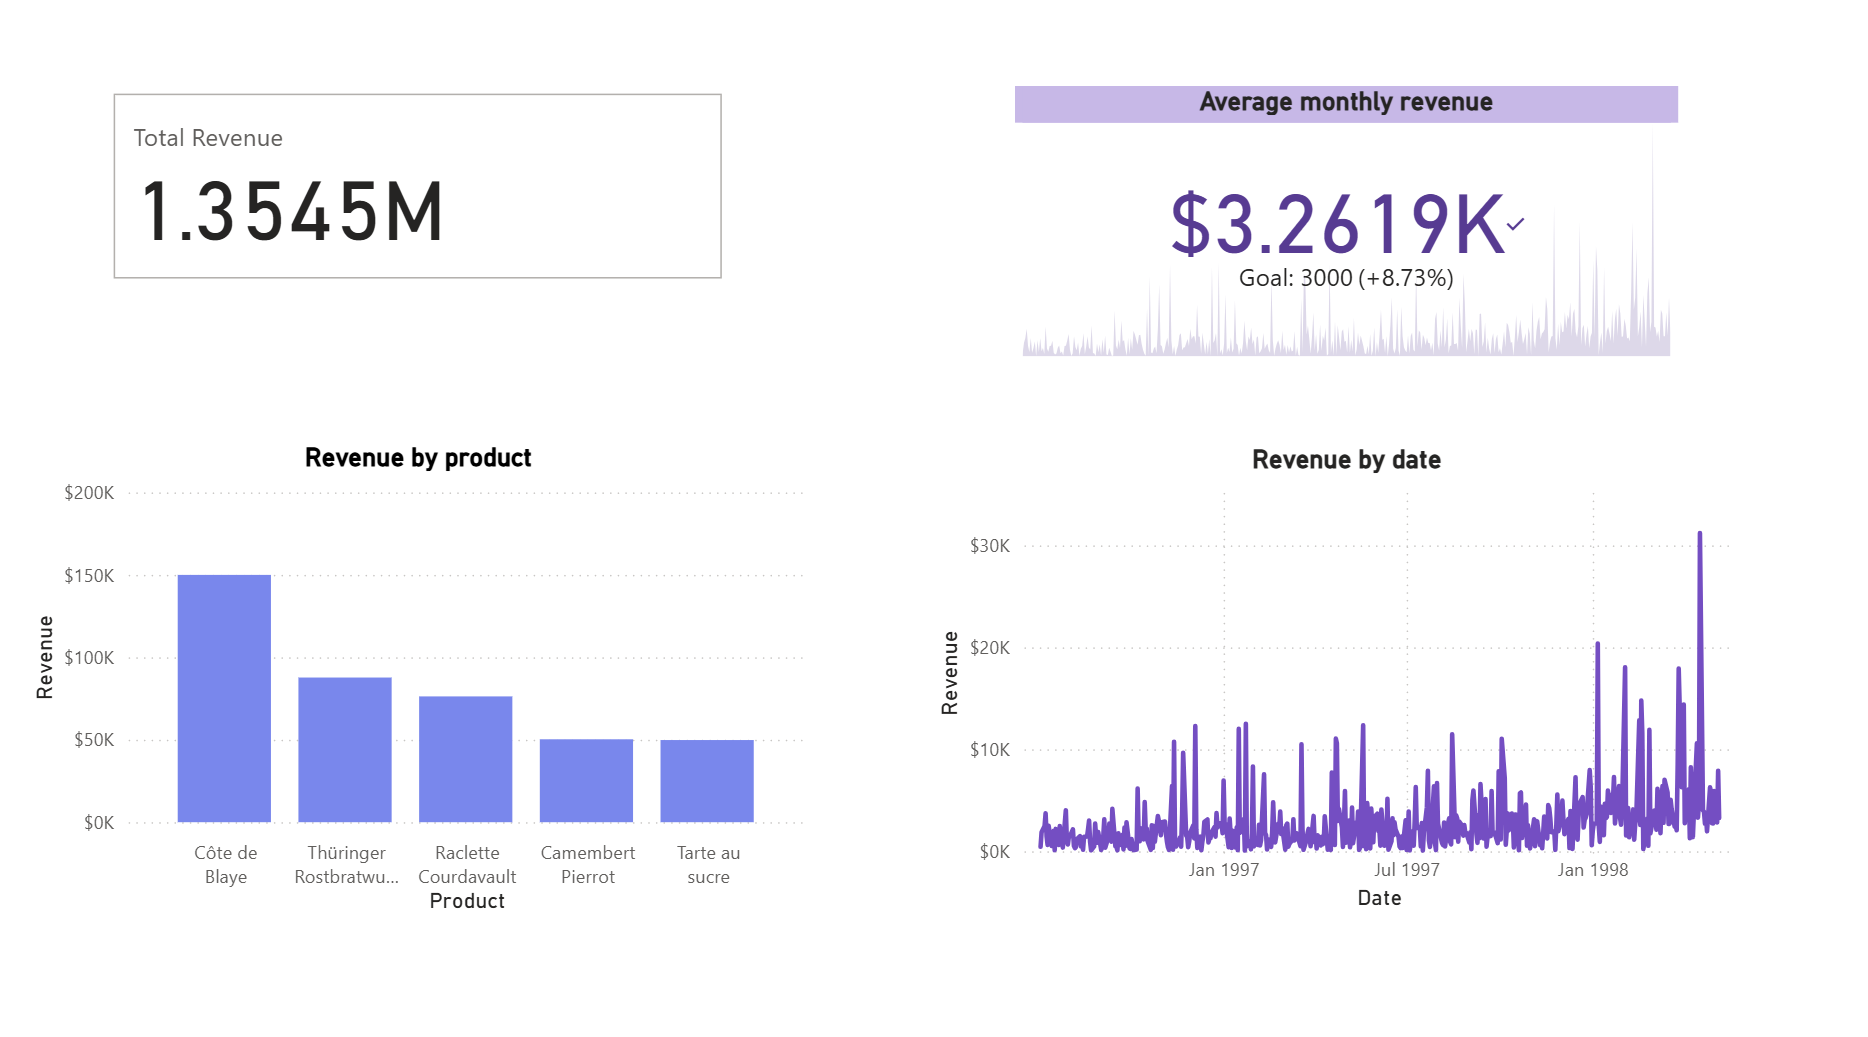

The page's visual inventory and layout, read from the dashboard file:
{"tool":"powerbi","page":{"name":"Page 1","canvas":[1280,720],"ordinal":0},"visuals":[{"type":"columnChart","title":"Revenue by product","fields":{"Y":["Categories.Revenue"],"Category":["Products.ProductName"]},"box":[47.8,310.8,516.3,312.8],"z":0},{"type":"lineChart","title":"Revenue by date","fields":{"Y":["Categories.Revenue"],"Category":["Orders.OrderDate.Variation.Date Hierarchy.Year","Orders.OrderDate.Variation.Date Hierarchy.Quarter","Orders.OrderDate.Variation.Date Hierarchy.Month","Orders.OrderDate.Variation.Date Hierarchy.Day"]},"box":[640,312.1,547.1,309.5],"z":1000},{"type":"cardVisual","fields":{"Data":["Categories.Revenue"]},"box":[101.4,77.9,409,131.5],"z":2000},{"type":"kpi","title":"Average monthly revenue","fields":{"Goal":["Categories.Monthly Target"],"TrendLine":["Orders.OrderDate"],"Indicator":["Categories.Avg Monthly Revenue"]},"box":[696.3,77.9,433.9,181.9],"z":3000}]}

Visuals, with their boxes in screenshot pixels (x1, y1, x2, y2), scaled from the page's 1280x720 canvas onto the 1868x1037 screenshot:
"Revenue by product" columnChart: [x1=70, y1=448, x2=823, y2=898]
"Revenue by date" lineChart: [x1=934, y1=450, x2=1732, y2=895]
cardVisual - Categories.Revenue: [x1=148, y1=112, x2=745, y2=302]
"Average monthly revenue" kpi: [x1=1016, y1=112, x2=1649, y2=374]
